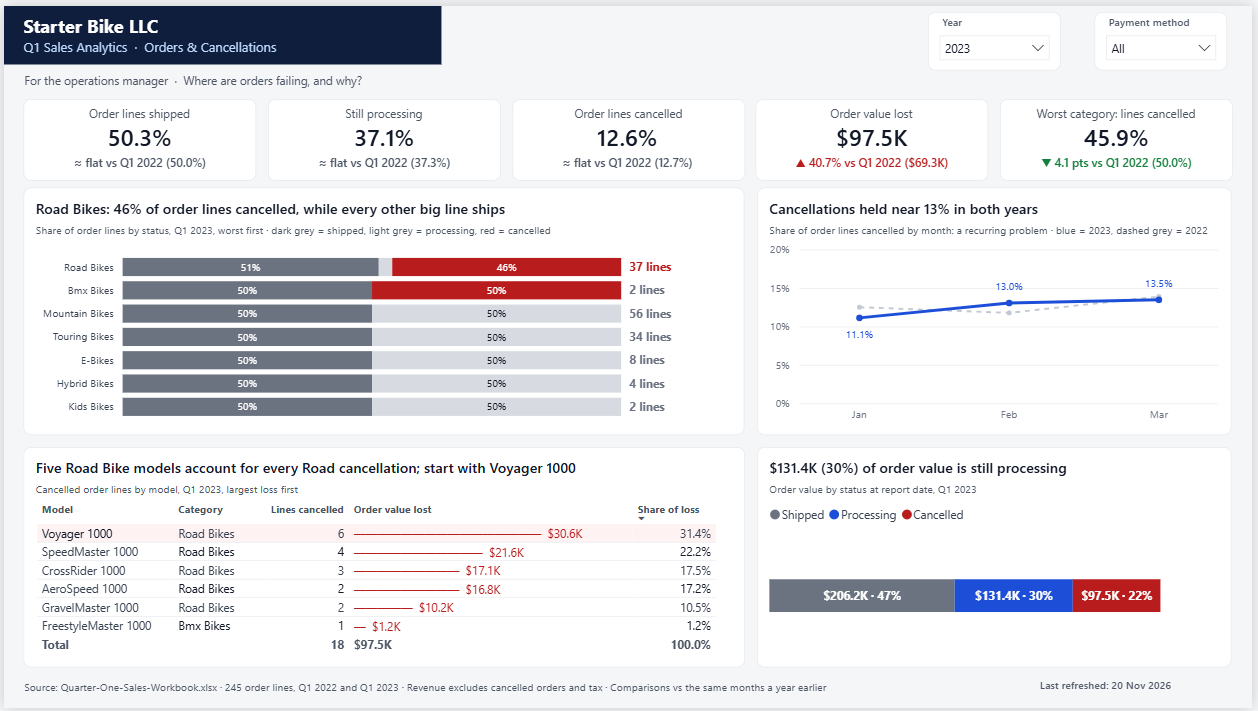

This screenshot's page, from the dashboard's own definition file:
{"tool":"powerbi","page":{"name":"Operational Performance","canvas":[1280,720],"ordinal":2},"visuals":[{"type":"clusteredBarChart","title":"Order Value by Status","fields":{"Category":["Sales.Order Status"],"Y":["Sum(Sales.Order Value)"]},"box":[542.9,91.6,300,314.6],"z":0},{"type":"clusteredColumnChart","fields":{"Category":["Sales.Product Category "],"Y":["Sum(Sales.Order Quantity)"]},"box":[21.2,91.6,511,314.6],"z":1000},{"type":"pivotTable","title":"Revenue and Profit Matrix","fields":{"Columns":["Sales.Payment Method"],"Rows":["Sales.Order Quantity"],"Values":["Sum(Sales.Sales Amount)","Sum(Sales.Profit)"]},"box":[323.2,524.8,931.3,184.9],"z":2000},{"type":"cardVisual","fields":{"Data":["Measure.Shipped Orders","Measure.Under Process","Measure.Cancelled Orders"]},"box":[326.5,419.4,529.6,94.2],"z":4000},{"type":"slicer","fields":{"Values":["Date.Year"]},"box":[878.7,19.9,165.9,71.7],"z":5000},{"type":"slicer","fields":{"Values":["Date.Month"]},"box":[1055.2,19.9,200.4,71.7],"z":6000},{"type":"columnChart","title":"Order Status Distribution","fields":{"Category":["Sales.Product Category "],"Y":["Measure.Shipped Orders","Measure.Cancelled Orders","Measure.Under Processing"]},"box":[856.1,91.6,398.2,422.1],"z":7000},{"type":"pieChart","title":"Customers'' Payment Preference","fields":{"Category":["Sales.Payment Method"],"Y":["Measure.Customers"]},"box":[20.7,419.9,294.3,289.5],"z":8000},{"type":"textbox","box":[21.2,0,605.3,62.4],"z":8001}]}

Visuals, with their boxes in screenshot pixels (x1, y1, x2, y2), scaled from the page's 1280x720 canvas onto the 1258x711 screenshot:
"Order Value by Status" clusteredBarChart: bbox(534, 90, 828, 401)
clusteredColumnChart - Sales.Product Category  x Sum(Sales.Order Quantity): bbox(21, 90, 523, 401)
"Revenue and Profit Matrix" pivotTable: bbox(318, 518, 1233, 701)
cardVisual - Measure.Shipped Orders x Measure.Under Process: bbox(321, 414, 841, 507)
slicer - Date.Year: bbox(864, 20, 1027, 90)
slicer - Date.Month: bbox(1037, 20, 1234, 90)
"Order Status Distribution" columnChart: bbox(841, 90, 1233, 507)
"Customers'' Payment Preference" pieChart: bbox(20, 415, 310, 701)
textbox: bbox(21, 0, 616, 62)
